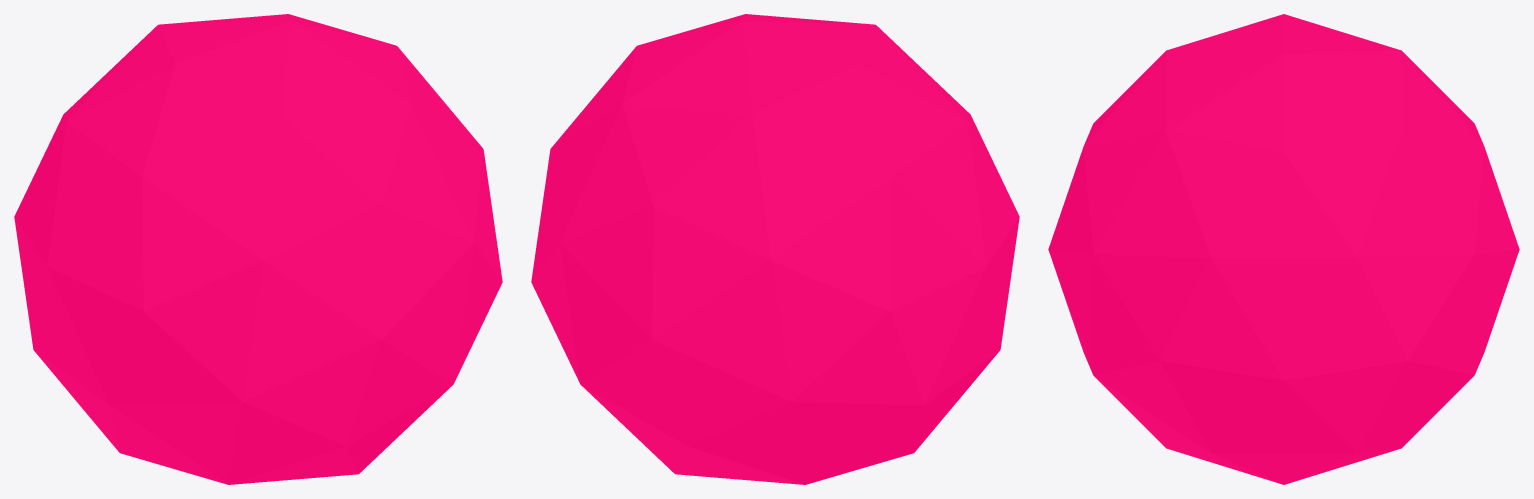
The model's file is 3.2_exam_3dscene_Gem2_simpletextured.glb.
3 renders of one model, left to right at view 1: azimuth 30°, elevation 25°; view 2: azimuth 150°, elevation 25°; view 3: azimuth 270°, elevation 25°, orthographic. The views are drawn at different scales.
Parts seen in each view (by area): view 1: Gem2; view 2: Gem2; view 3: Gem2.
Part boxes in pixels (x1,y1,x2,y2): Gem2: [14, 14, 502, 484]; Gem2: [531, 14, 1019, 484]; Gem2: [1048, 14, 1519, 484].
Bounding box in the file's own units: 1.07 × 1.07 × 1.08.
